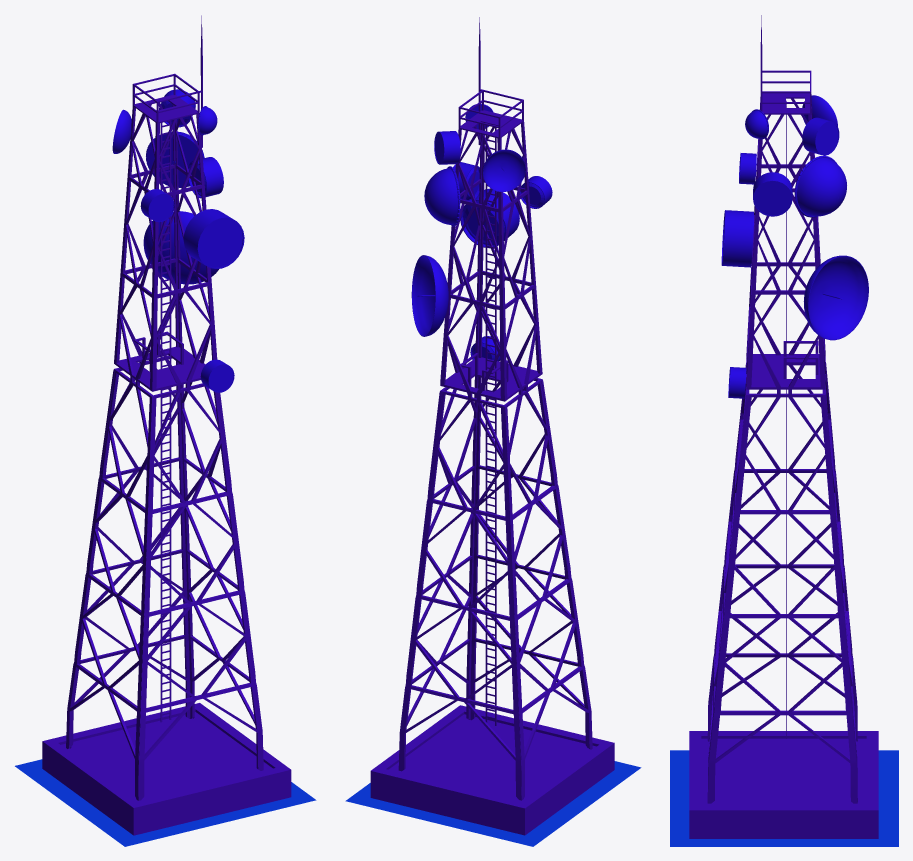
Rendered from tower_blue.fbx.
3 renders of one model, left to right at view 1: azimuth 30°, elevation 25°; view 2: azimuth 150°, elevation 25°; view 3: azimuth 270°, elevation 25°, orthographic. The views are drawn at different scales.
Visible parts, largest first — view 1: inc3d_comm_tower:Line03, inc3d_comm_tower:Box01, ght_ght2, inc3d_comm_tower:Cylinder03, inc3d_comm_tower:satalite, inc3d_comm_tower:Sphere01, inc3d_comm_tower:Cylinder01, inc3d_comm_tower:Cylinder04, inc3d_comm_tower:Cylinder05, inc3d_comm_tower:satalite01; view 2: inc3d_comm_tower:Line03, inc3d_comm_tower:Box01, ght_ght2, inc3d_comm_tower:satalite, inc3d_comm_tower:Sphere01, inc3d_comm_tower:satalite01, inc3d_comm_tower:Cylinder03, inc3d_comm_tower:Cylinder02, inc3d_comm_tower:Cylinder05; view 3: inc3d_comm_tower:Line03, inc3d_comm_tower:Box01, ght_ght2, inc3d_comm_tower:satalite, inc3d_comm_tower:Sphere01, inc3d_comm_tower:Cylinder03, inc3d_comm_tower:Cylinder01, inc3d_comm_tower:Cylinder02, inc3d_comm_tower:Sphere02, inc3d_comm_tower:Cylinder04, inc3d_comm_tower:Cylinder05, inc3d_comm_tower:satalite01.
Part boxes in pixels (box(x1,y1,x2,y2)): inc3d_comm_tower:Line03: box(66, 15, 263, 800); inc3d_comm_tower:Box01: box(42, 703, 291, 835); ght_ght2: box(15, 759, 316, 846); inc3d_comm_tower:Cylinder03: box(183, 209, 244, 268); inc3d_comm_tower:satalite: box(143, 211, 218, 284); inc3d_comm_tower:Sphere01: box(146, 131, 204, 187); inc3d_comm_tower:Cylinder01: box(188, 157, 223, 198); inc3d_comm_tower:Cylinder04: box(200, 359, 234, 392); inc3d_comm_tower:Cylinder05: box(140, 189, 174, 222); inc3d_comm_tower:satalite01: box(112, 109, 131, 153); inc3d_comm_tower:Line03: box(398, 17, 592, 800); inc3d_comm_tower:Box01: box(370, 705, 614, 835); ght_ght2: box(345, 761, 641, 846); inc3d_comm_tower:satalite: box(411, 255, 448, 336); inc3d_comm_tower:Sphere01: box(424, 166, 460, 226); inc3d_comm_tower:satalite01: box(483, 149, 525, 191); inc3d_comm_tower:Cylinder03: box(460, 188, 519, 248); inc3d_comm_tower:Cylinder02: box(434, 131, 460, 164); inc3d_comm_tower:Cylinder05: box(519, 176, 552, 208); inc3d_comm_tower:Line03: box(707, 15, 857, 803); inc3d_comm_tower:Box01: box(689, 731, 878, 838); ght_ght2: box(670, 750, 898, 846); inc3d_comm_tower:satalite: box(803, 255, 868, 340); inc3d_comm_tower:Sphere01: box(794, 155, 846, 217); inc3d_comm_tower:Cylinder03: box(721, 210, 753, 267); inc3d_comm_tower:Cylinder01: box(753, 172, 792, 216); inc3d_comm_tower:Cylinder02: box(802, 117, 839, 155); inc3d_comm_tower:Sphere02: box(745, 109, 768, 139); inc3d_comm_tower:Cylinder04: box(728, 367, 746, 398); inc3d_comm_tower:Cylinder05: box(739, 153, 756, 184); inc3d_comm_tower:satalite01: box(802, 95, 837, 126).
Size of the model in its own units: 8 by 30.76 by 8.
